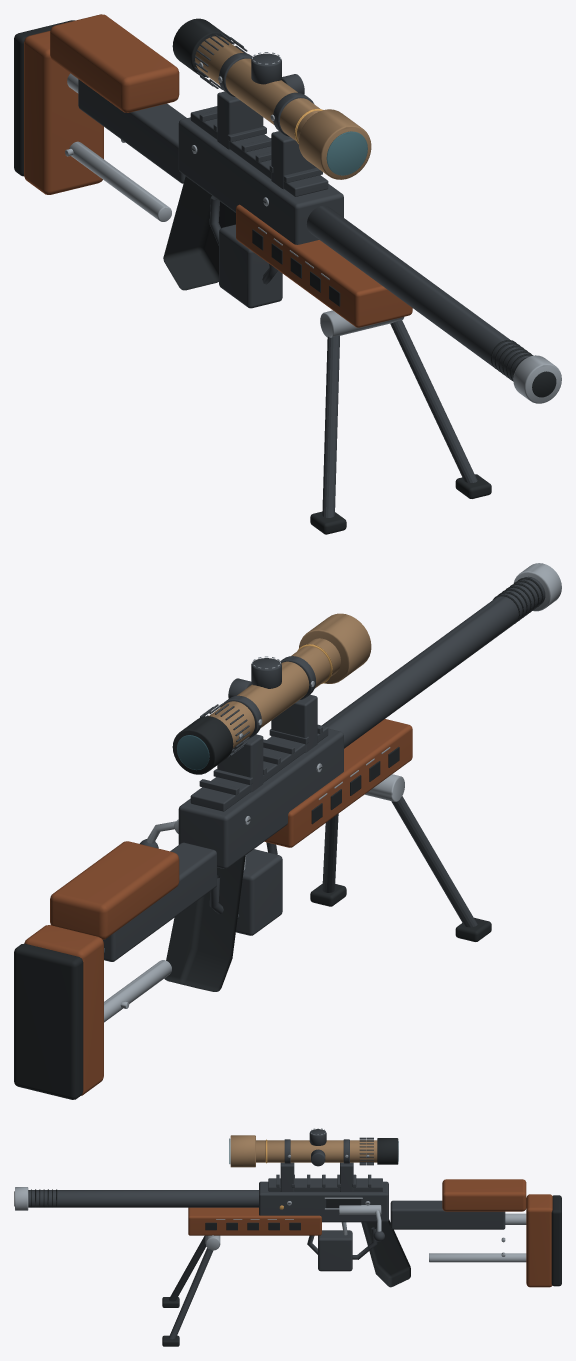
The model's file is ks-rifle-precision.glb.
3 views of the same model, one above another, from view 1: azimuth 30°, elevation 25°; view 2: azimuth 150°, elevation 25°; view 3: azimuth 270°, elevation 25° (orthographic). The views are drawn at different scales.
Parts seen in each view (by area): view 1: static_batch_Graphite, static_batch_Warm_walnut, static_batch_Soft_matte_contact_pads, static_batch_Bronze_optic, static_batch_Satin_stainless_details, scope_glass_front; view 2: static_batch_Graphite, static_batch_Soft_matte_contact_pads, static_batch_Warm_walnut, static_batch_Bronze_optic, static_batch_Satin_stainless_details, scope_glass_rear; view 3: static_batch_Graphite, static_batch_Warm_walnut, static_batch_Soft_matte_contact_pads, static_batch_Bronze_optic, static_batch_Satin_stainless_details, bolt.
Boxes of the visible parts, left/top/right/bottom form: static_batch_Graphite: left=78, top=33, right=530, bottom=517; static_batch_Warm_walnut: left=24, top=14, right=412, bottom=327; static_batch_Soft_matte_contact_pads: left=14, top=18, right=556, bottom=534; static_batch_Bronze_optic: left=195, top=36, right=371, bottom=179; static_batch_Satin_stainless_details: left=65, top=52, right=561, bottom=403; scope_glass_front: left=326, top=131, right=367, bottom=175; static_batch_Graphite: left=103, top=576, right=545, bottom=961; static_batch_Soft_matte_contact_pads: left=14, top=577, right=543, bottom=1099; static_batch_Warm_walnut: left=24, top=719, right=412, bottom=1095; static_batch_Bronze_optic: left=209, top=613, right=371, bottom=748; static_batch_Satin_stainless_details: left=104, top=563, right=561, bottom=1022; scope_glass_rear: left=176, top=735, right=209, bottom=770; static_batch_Graphite: left=28, top=1129, right=505, bottom=1339; static_batch_Warm_walnut: left=188, top=1179, right=552, bottom=1287; static_batch_Soft_matte_contact_pads: left=14, top=1138, right=561, bottom=1346; static_batch_Bronze_optic: left=230, top=1135, right=377, bottom=1167; static_batch_Satin_stainless_details: left=15, top=1128, right=526, bottom=1262; bolt: left=339, top=1205, right=381, bottom=1214.
Bounding box in the file's own units: 0.278 × 0.5585 × 1.43.
